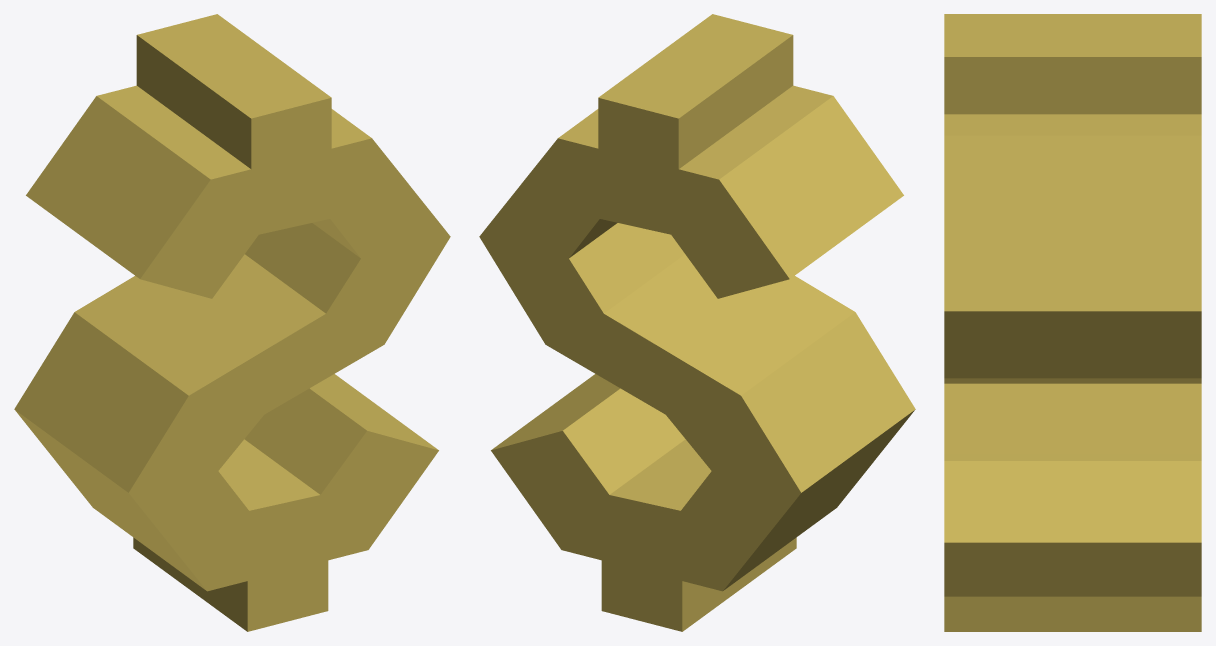
File: Dollar.fbx
3 renders of one model, left to right at view 1: azimuth 30°, elevation 25°; view 2: azimuth 150°, elevation 25°; view 3: azimuth 270°, elevation 25°, orthographic. The views are drawn at different scales.
Visible parts, largest first — view 1: Dollar; view 2: Dollar; view 3: Dollar.
Part boxes in pixels (<box>): Dollar: <box>14,14,450,631</box>; Dollar: <box>479,14,915,631</box>; Dollar: <box>944,14,1201,631</box>.
Bounding box in the file's own units: 25.8 × 39.32 × 15.87.
